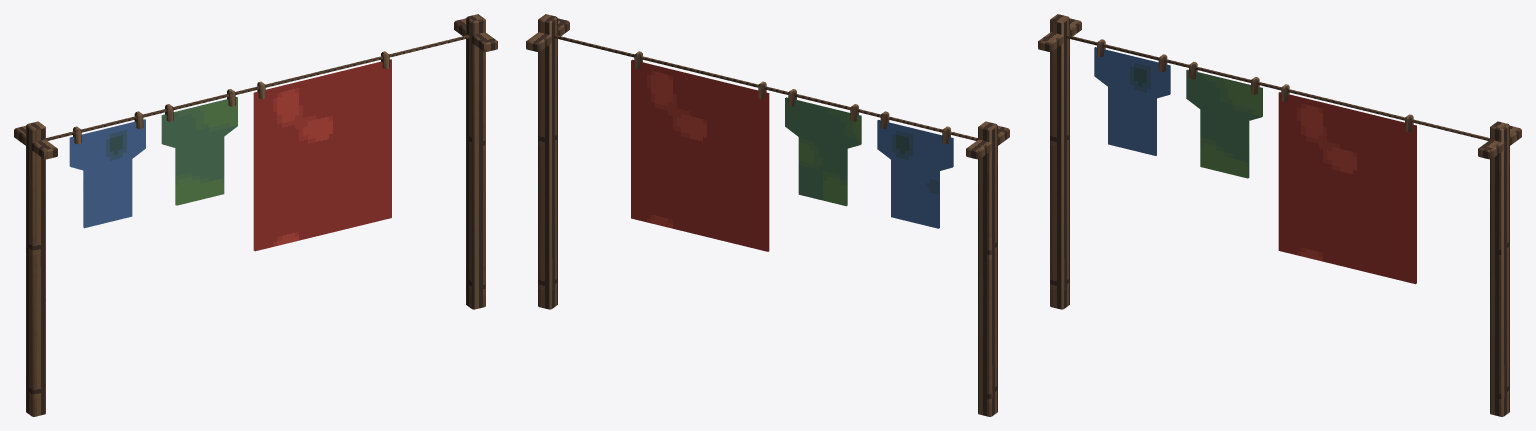
File: cn_clothes_line_1.glb
The picture shows the model from 3 angles, left to right: view 1: azimuth 30°, elevation 25°; view 2: azimuth 150°, elevation 25°; view 3: azimuth 330°, elevation 25°; orthographic projection.
Visible parts, largest first — view 1: cn_clothes_line_2; view 2: cn_clothes_line_2; view 3: cn_clothes_line_2.
Part boxes in pixels (x1,y1,x2,y2): cn_clothes_line_2: [14, 14, 497, 416]; cn_clothes_line_2: [526, 14, 1009, 416]; cn_clothes_line_2: [1038, 14, 1521, 416].
Bounding box in the file's own units: 3.3 × 2 × 0.4.
Materials: 6 (6 with a texture image).
